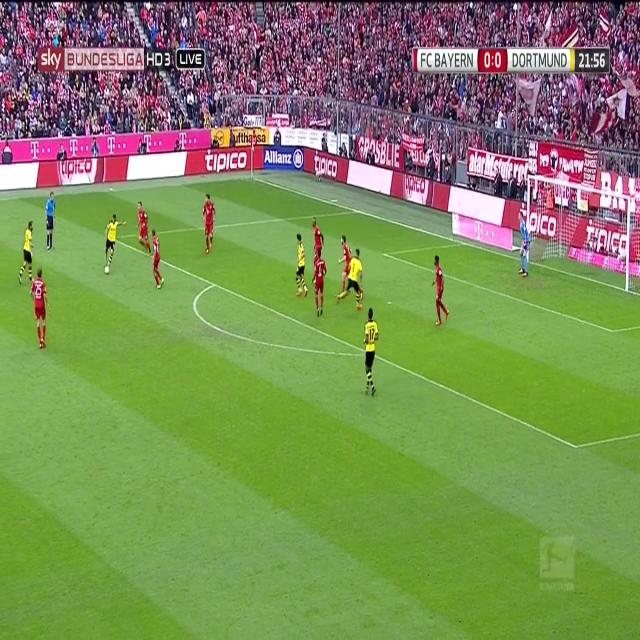Ball: (102, 263, 112, 277)
Player: (30, 266, 50, 353)
